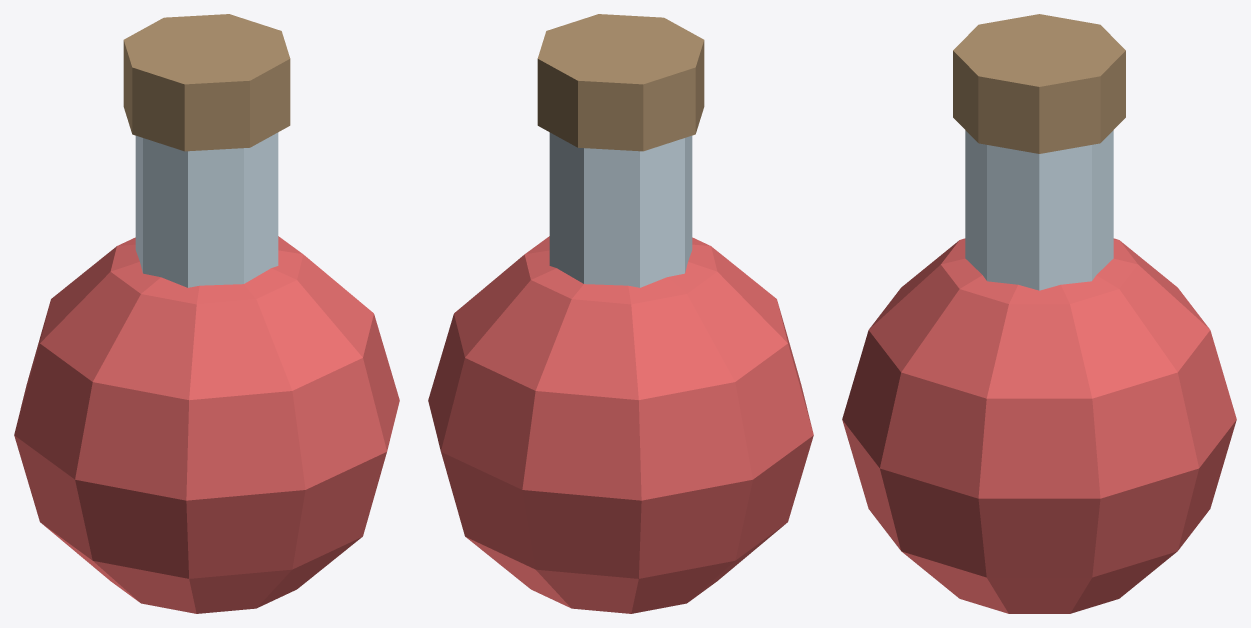
Rendered from sm_potion.glb.
The picture shows the model from 3 angles, left to right: view 1: azimuth 30°, elevation 25°; view 2: azimuth 150°, elevation 25°; view 3: azimuth 270°, elevation 25°; orthographic projection.
Visible parts, largest first — view 1: sm_potion; view 2: sm_potion; view 3: sm_potion.
Part boxes in pixels (x1,y1,x2,y2): sm_potion: (14,14,399,613); sm_potion: (428,14,813,613); sm_potion: (842,14,1236,613).
Size of the model in its own units: 0.1522 by 0.245 by 0.16.
